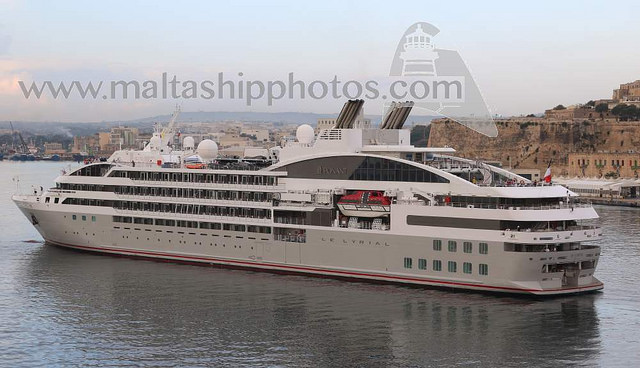cruise_ship: (10, 106, 610, 302)
